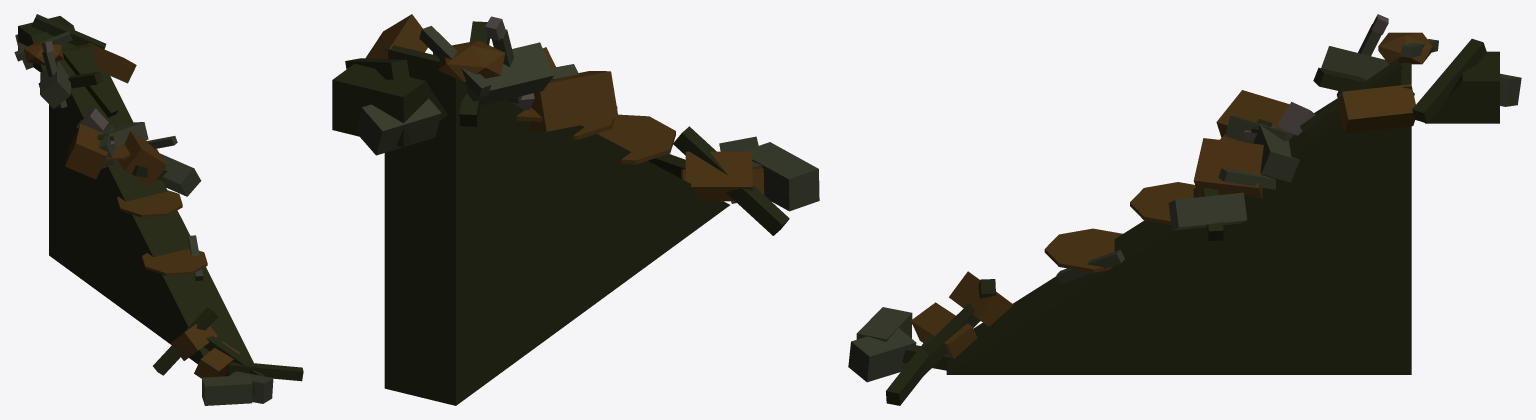
The model's file is SM_PilaZombi_Altura5_s1_LOD0.fbx.
3 views of the same model, side by side, from view 1: azimuth 30°, elevation 25°; view 2: azimuth 150°, elevation 25°; view 3: azimuth 270°, elevation 25° (orthographic). The views are drawn at different scales.
Visible parts, largest first — view 1: SM_pila_zombis_v9_LOD0; view 2: SM_pila_zombis_v9_LOD0; view 3: SM_pila_zombis_v9_LOD0.
Part boxes in pixels (bbox=[...]): SM_pila_zombis_v9_LOD0: bbox=[14, 14, 303, 405]; SM_pila_zombis_v9_LOD0: bbox=[332, 14, 819, 405]; SM_pila_zombis_v9_LOD0: bbox=[848, 14, 1521, 405].
Bounding box in the file's own units: 1.46 × 2.77 × 5.03.
